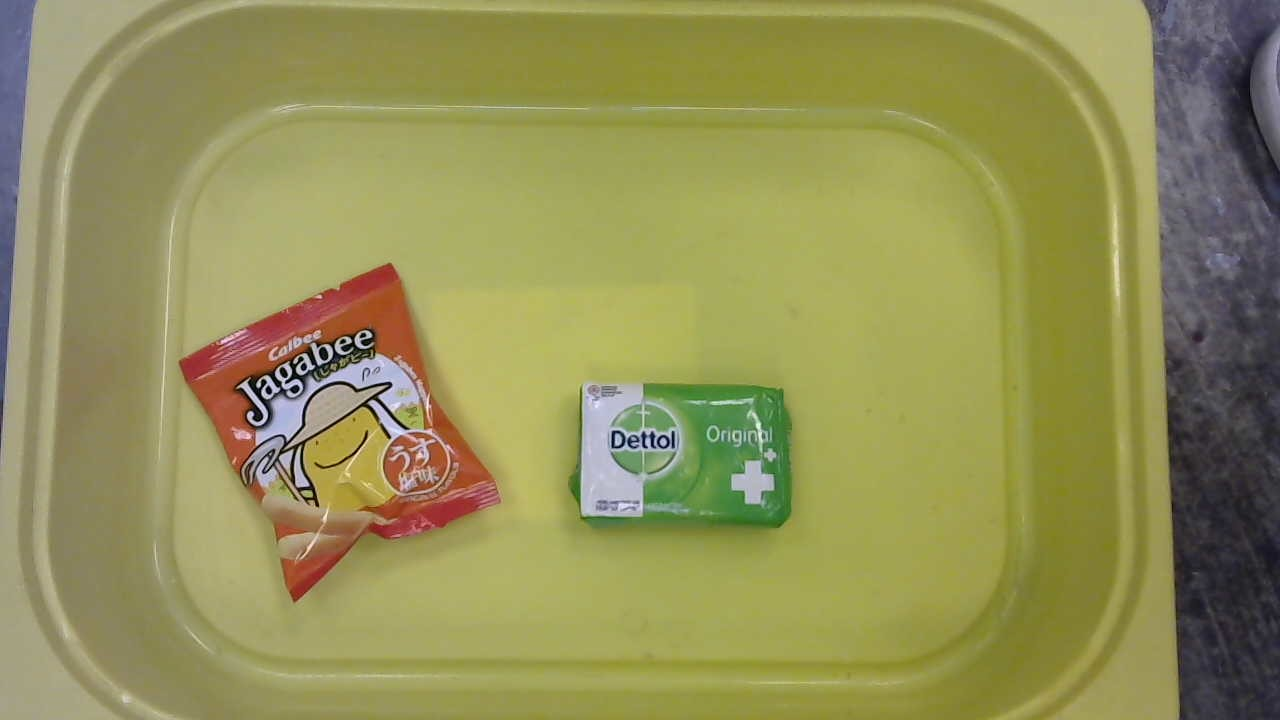Dettol: (573, 380, 799, 527)
JagabeeFarmer: (171, 262, 509, 609)
